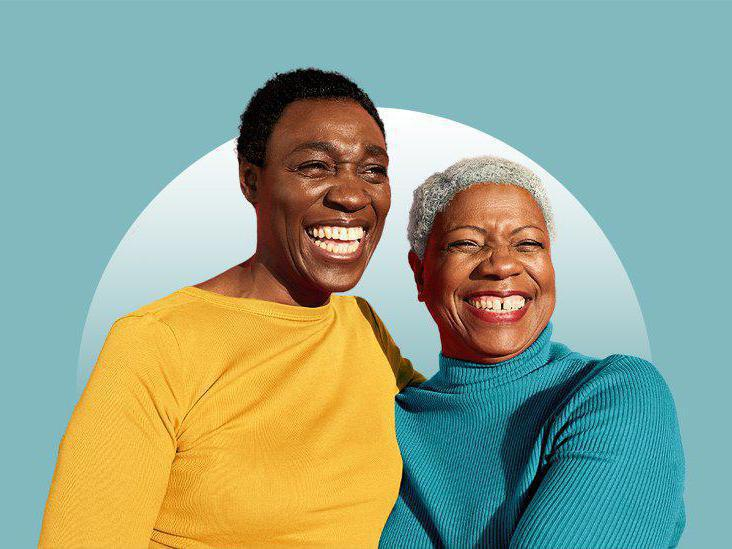Sober: (274, 107, 386, 281), (434, 189, 546, 341)
